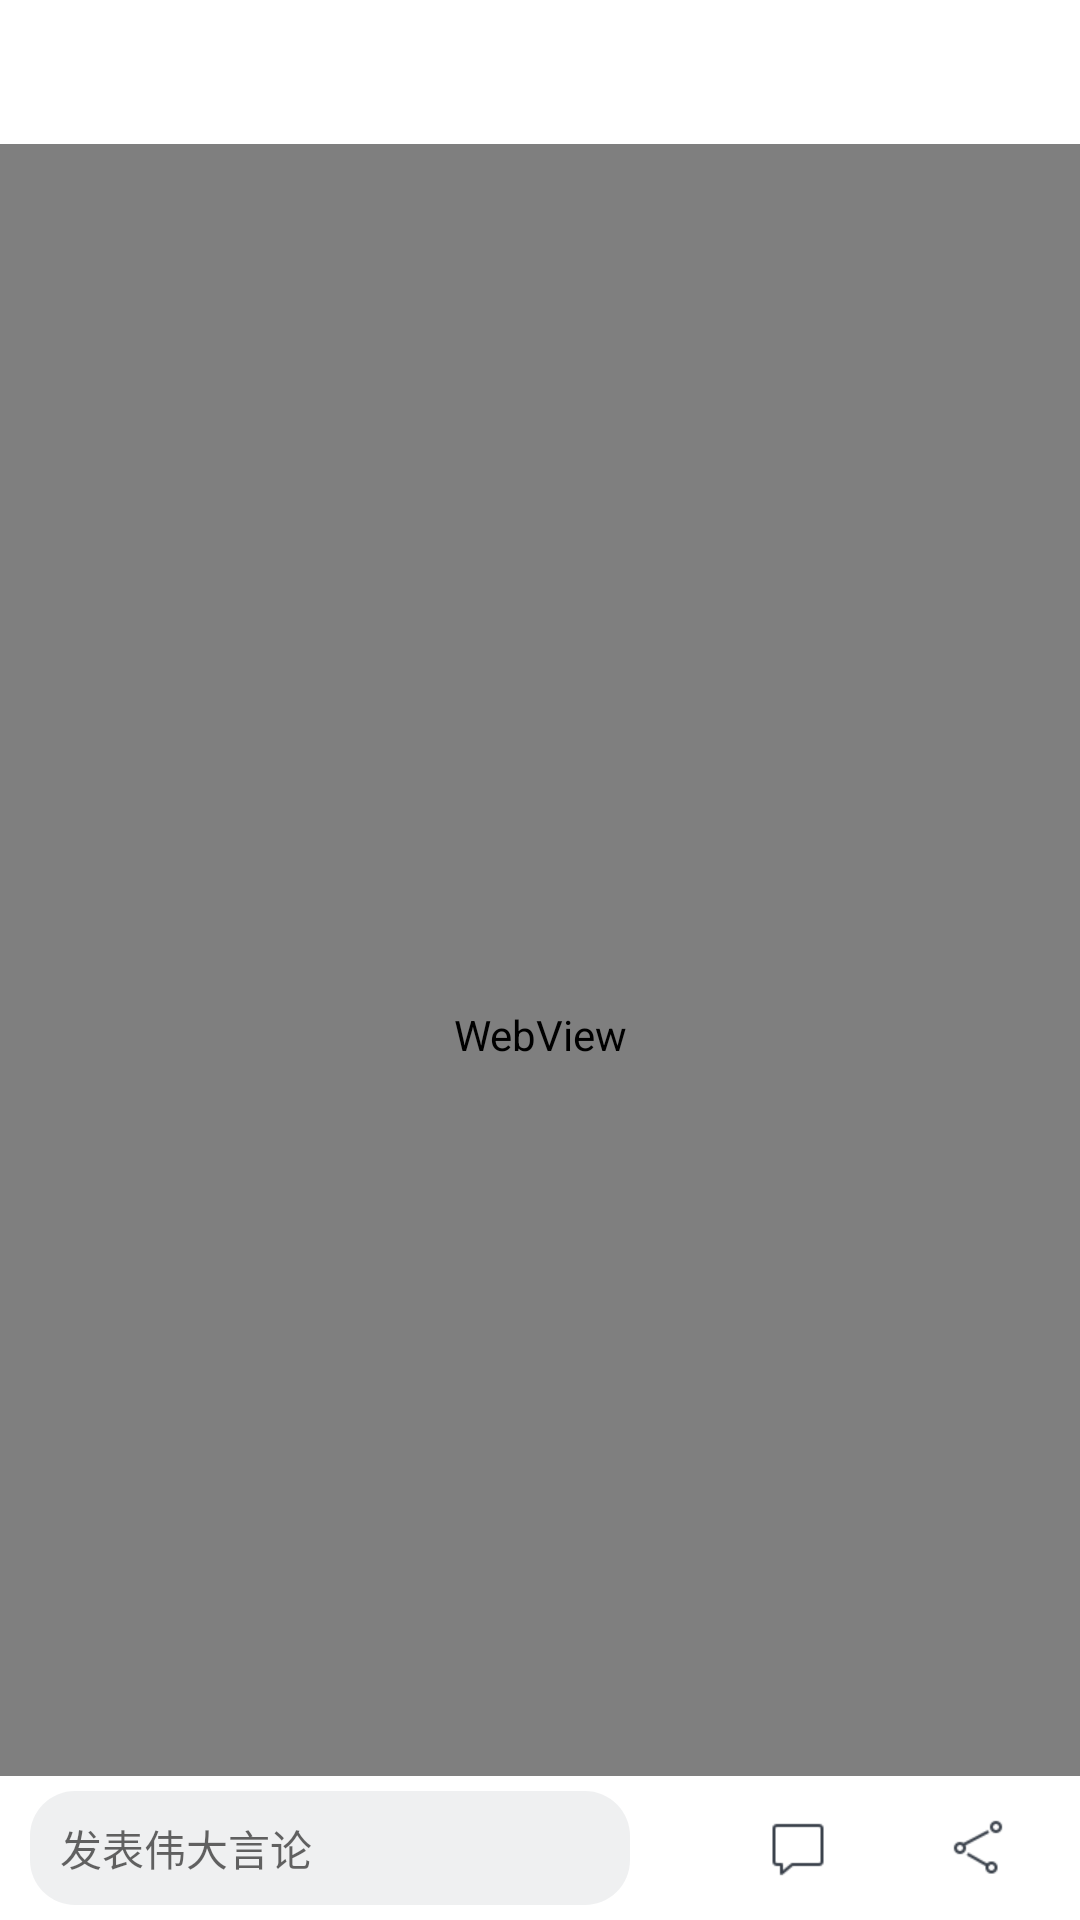

Point at icon controls on the screen. Image size 1080px×1920px, points as (x,y).
infoflow toolbar comment: (798,1849)
share: (978,1847)
